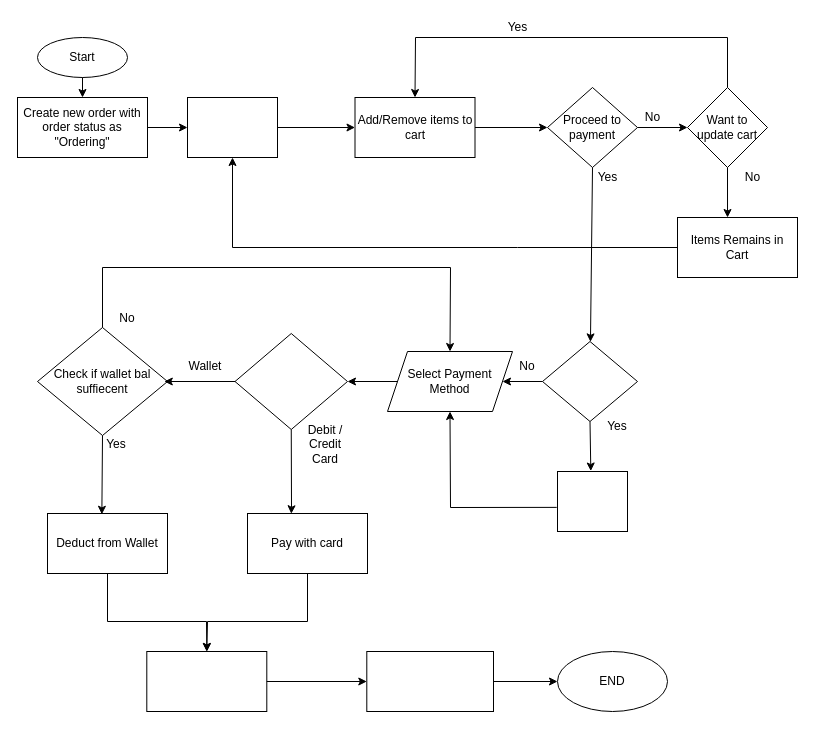
This 815x729 diagram has some shape labels left out. Each missing label, with the centre of its shape:
Apply Coupon: (x=590, y=381)
Card / Wallet: (x=291, y=381)
Check Menu: (x=232, y=127)
Coupon Applied: (x=592, y=501)
Order status "Placed Successfully": (x=430, y=681)
Payment Confirmed: (x=206, y=681)
